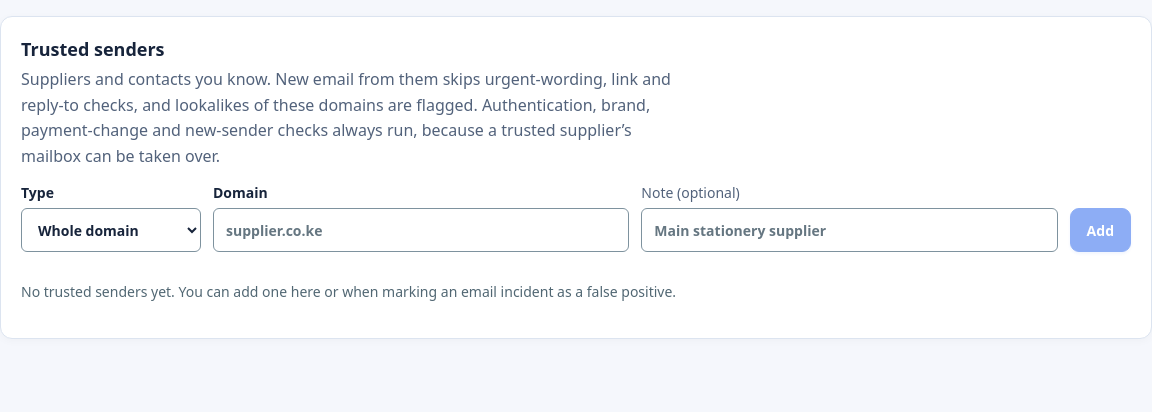
shows a validation error from the server when adding a trusted sender
Type "gmail.com" into the field labelled "Domain" at (421, 230), box [213,208,629,252]
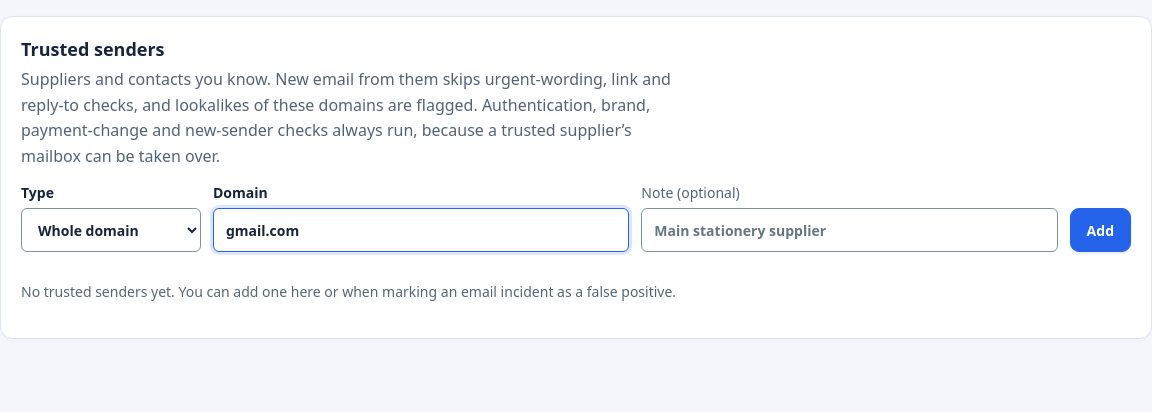
Click the button "Add" at (1100, 230), box [1070,208,1131,252]
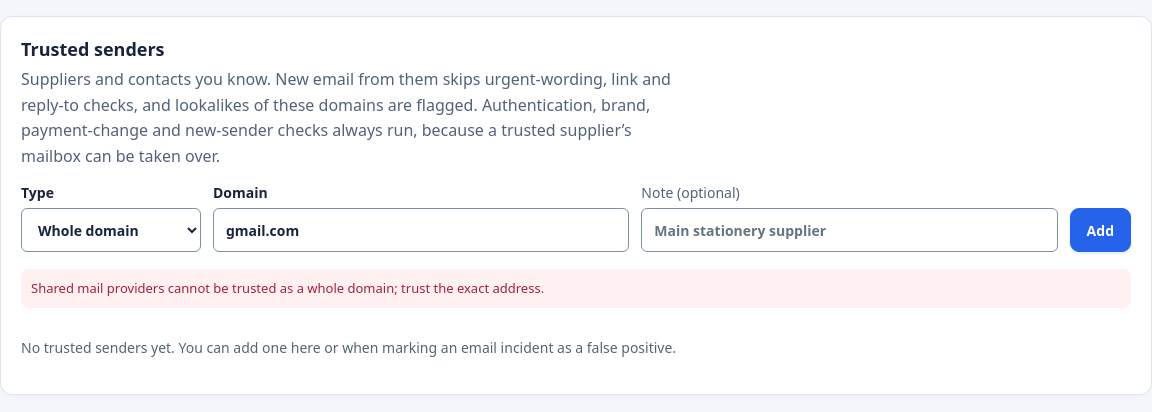
Check: the message shows "trust the exact address", box [31,279,544,297]
